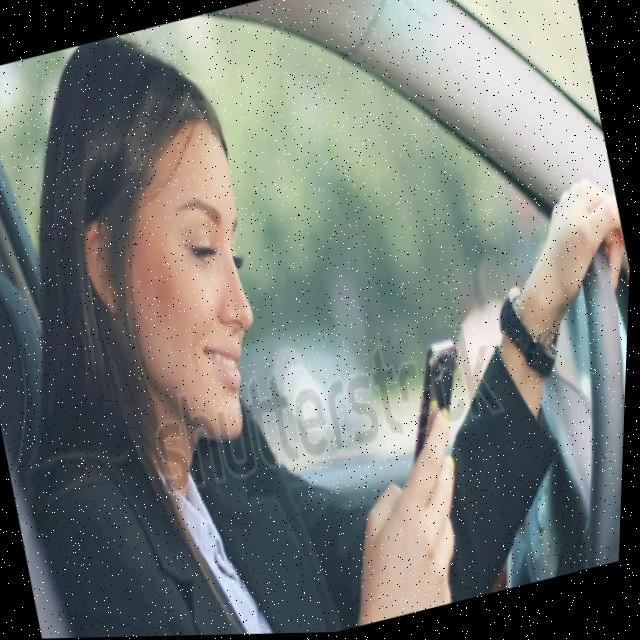PhoneCall: (390, 340, 486, 480)
